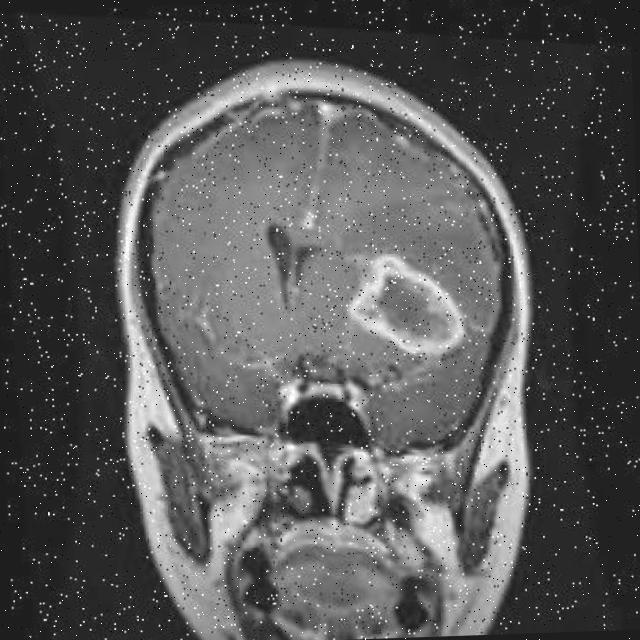LMCI: (291, 218, 483, 376)
